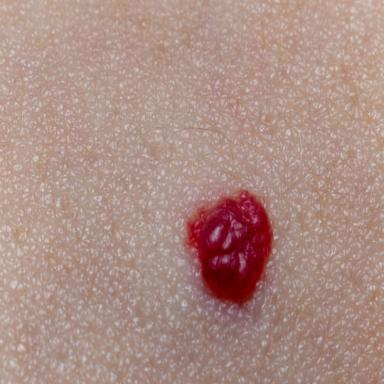Hemangiome: (186, 191, 273, 304)
